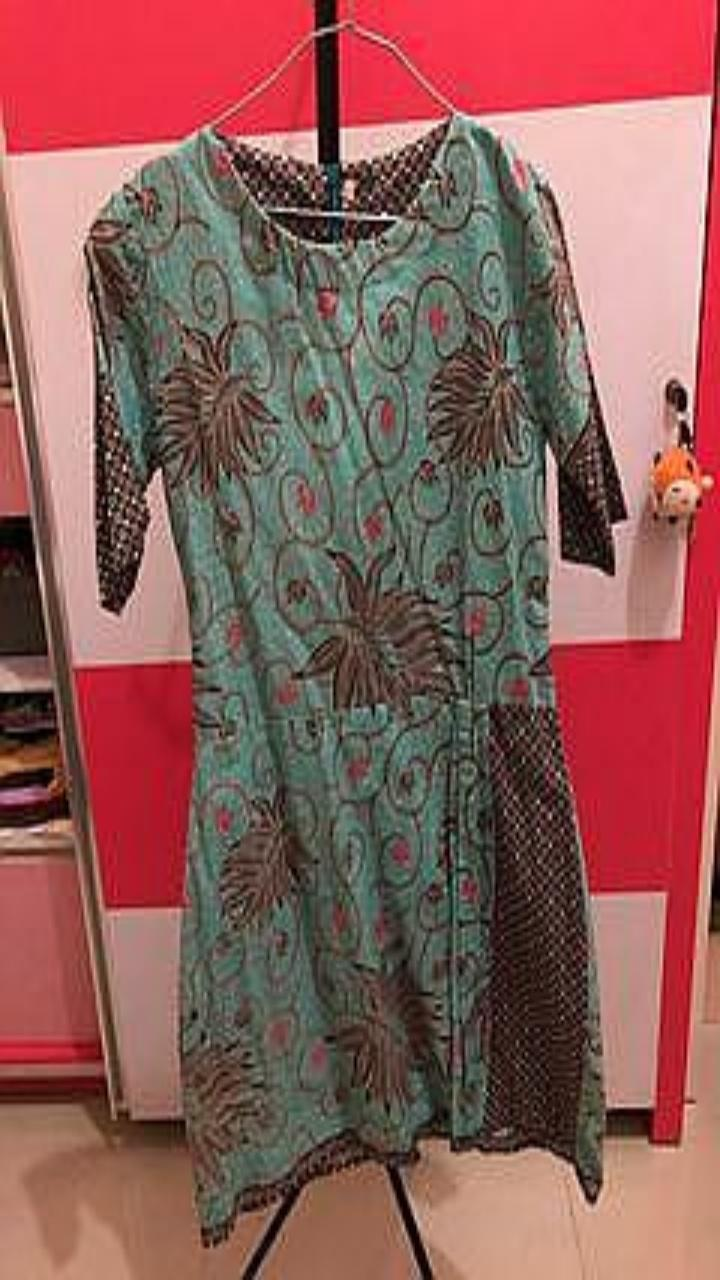Dresses: (86, 114, 623, 1243)
